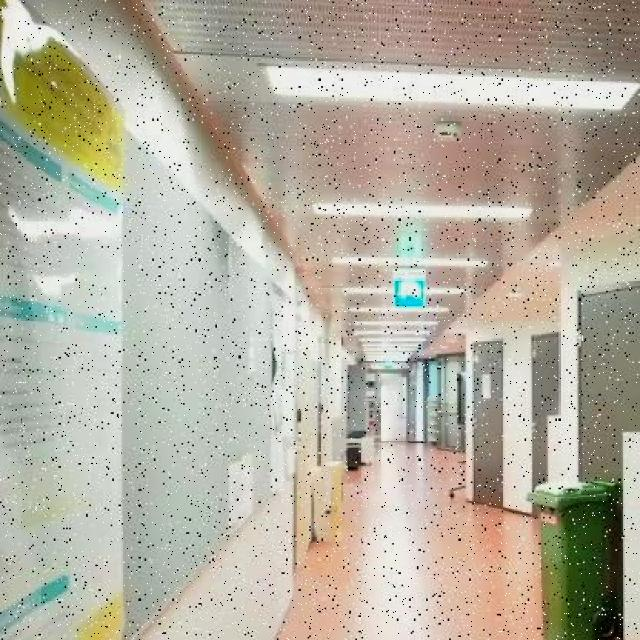emergency_exit: (391, 275, 428, 309)
